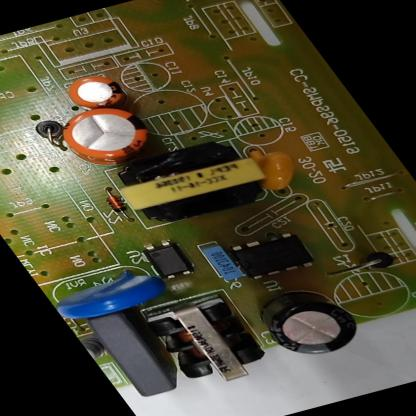Cap1: (50, 100, 164, 169)
Cap2: (58, 71, 128, 112)
Cap3: (249, 284, 369, 364)
MOSFET: (228, 232, 317, 282)
Mov: (46, 269, 169, 325)
Resistor: (79, 334, 110, 360)
Transformer: (101, 132, 280, 226), (140, 295, 276, 389)
